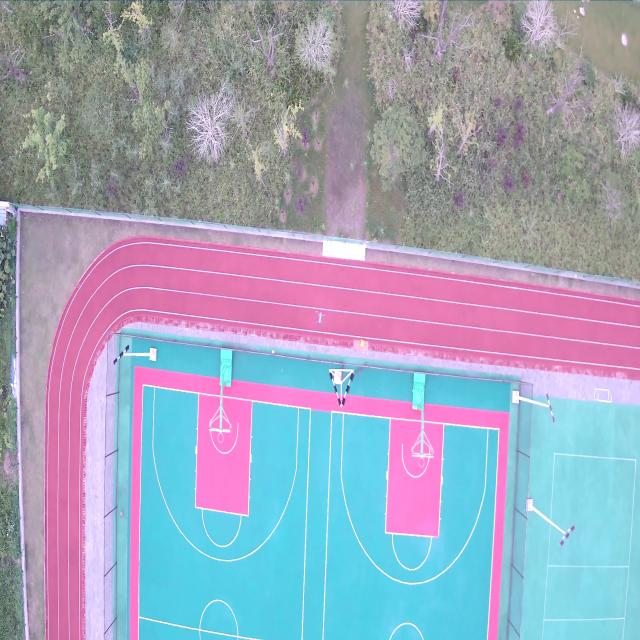UAV: (314, 310, 326, 327)
